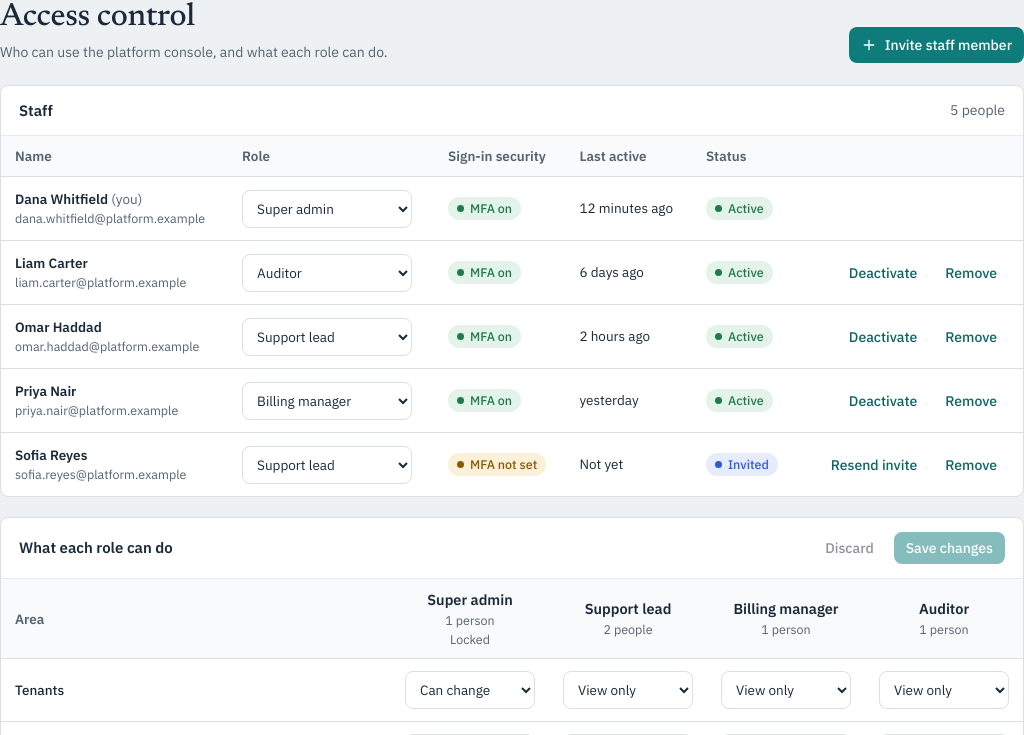
Test: Invite staff member: checks before sending › shows both errors at once for an empty form, focuses the first, and sends nothing
What coordinates should you click on to do the following:
click the button "Invite staff member"
I would click on:
 (936, 45)
Its box is x1=849 y1=27 x2=1023 y2=63.
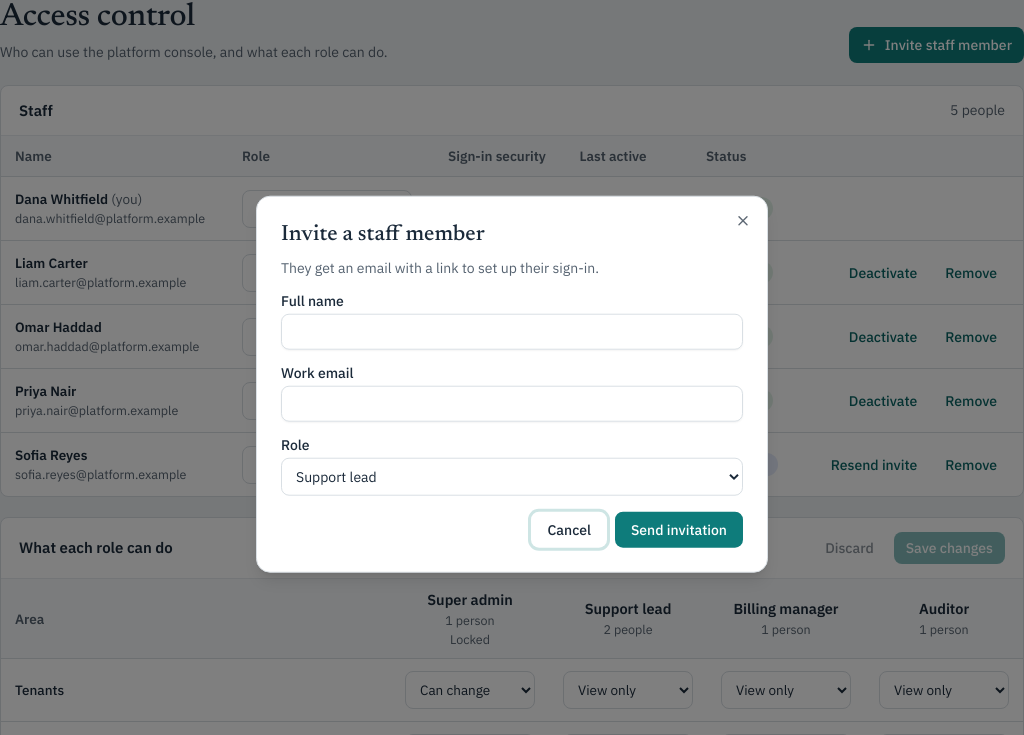
What coordinates should you click on to do the following:
click the button "Send invitation"
I would click on:
 (679, 529)
Its box is x1=615 y1=511 x2=743 y2=547.
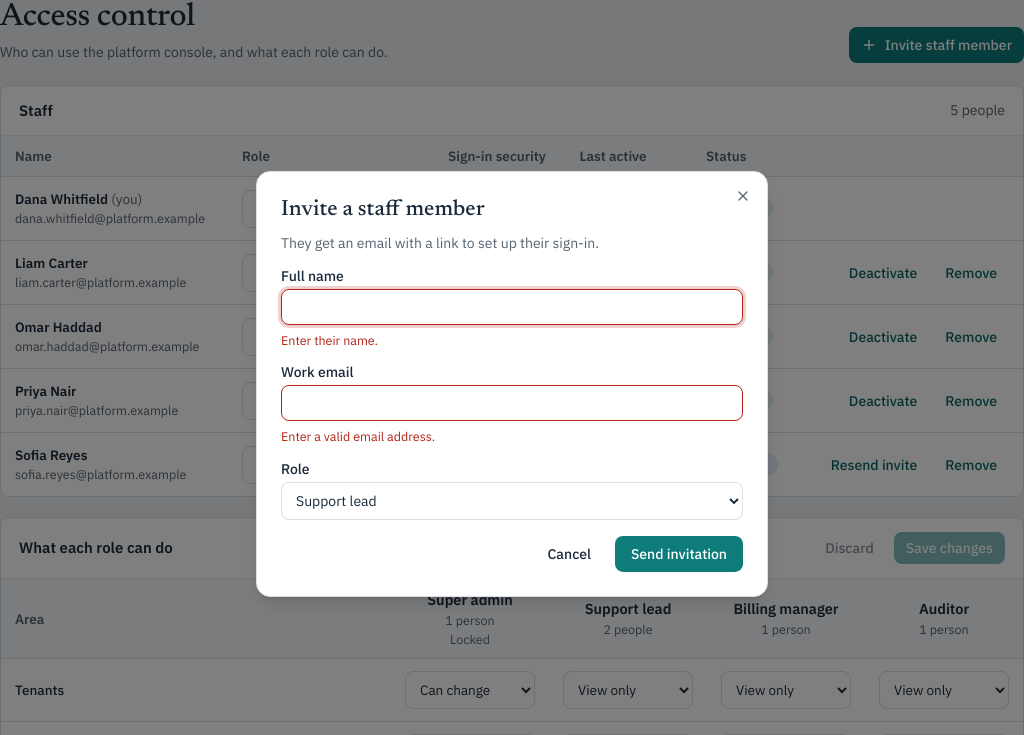
expect the text "Enter their name." is shown: met, box x1=281 y1=332 x2=378 y2=348
expect the text "Enter a valid email address." is shown: met, box x1=281 y1=428 x2=435 y2=444
expect the number of messages is 2: met, box x1=281 y1=332 x2=378 y2=348; x1=281 y1=428 x2=435 y2=444
